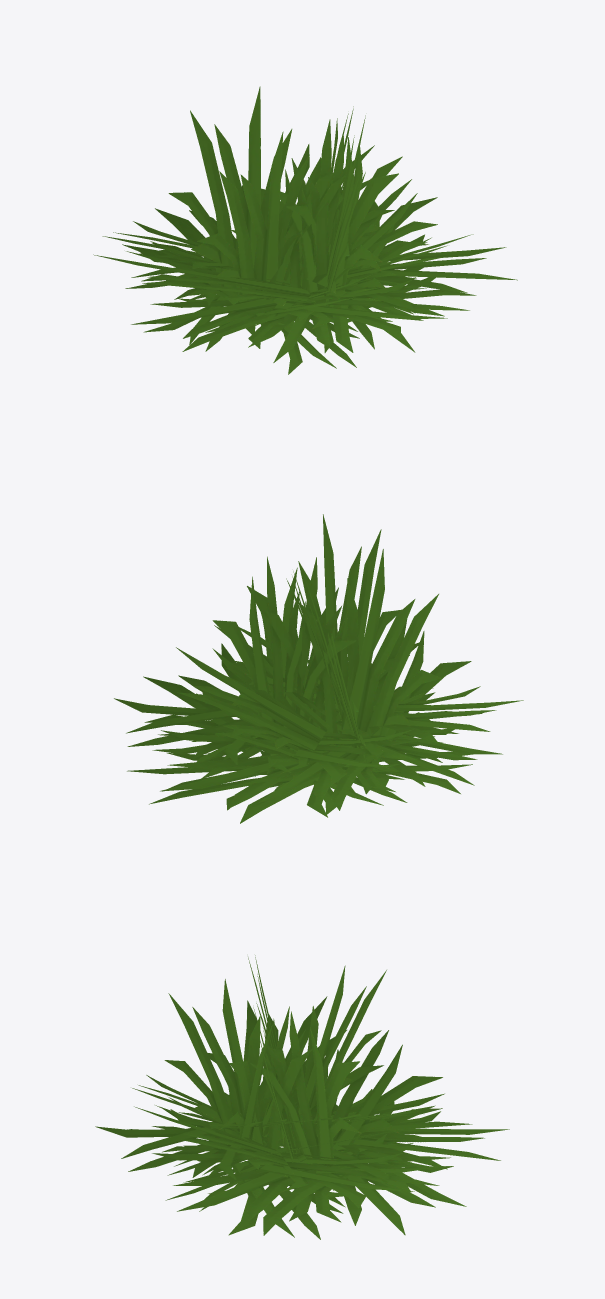
File: fm_fern_clump.glb
The picture shows the model from 3 angles, top to bottom: view 1: azimuth 30°, elevation 25°; view 2: azimuth 150°, elevation 25°; view 3: azimuth 270°, elevation 25°; orthographic projection. The views are drawn at different scales.
Visible parts, largest first — view 1: SM_Env_Grass_Bush_01_LOD1; view 2: SM_Env_Grass_Bush_01_LOD1; view 3: SM_Env_Grass_Bush_01_LOD1.
Boxes of the visible parts, x1,y1,x2,y2 form: SM_Env_Grass_Bush_01_LOD1: [93, 86, 517, 374]; SM_Env_Grass_Bush_01_LOD1: [114, 514, 523, 823]; SM_Env_Grass_Bush_01_LOD1: [95, 955, 509, 1239].
Bounding box in the file's own units: 1.66 × 0.8767 × 1.68.
Materials: 1 (1 with a texture image).
